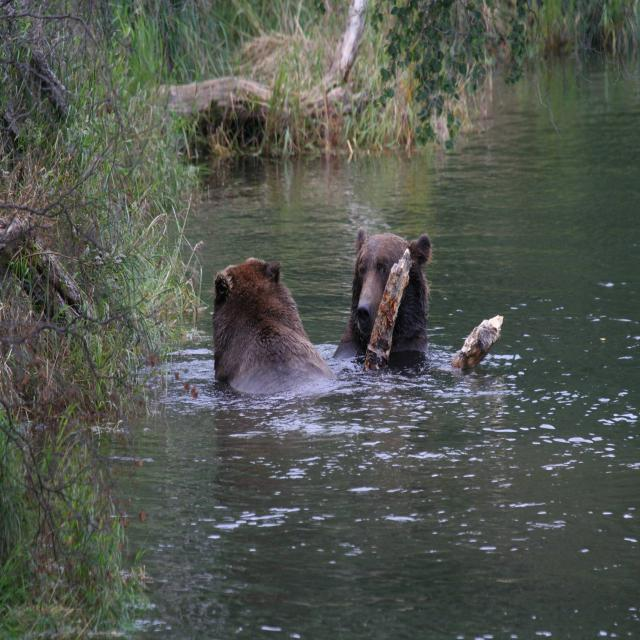bear face: (216, 255, 321, 390), (353, 225, 429, 360)
